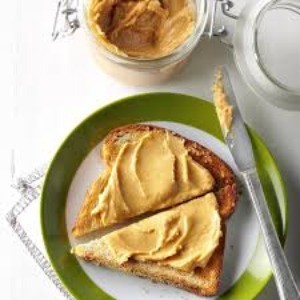peanut butter_brain food: (102, 156, 216, 258), (82, 9, 200, 84)
